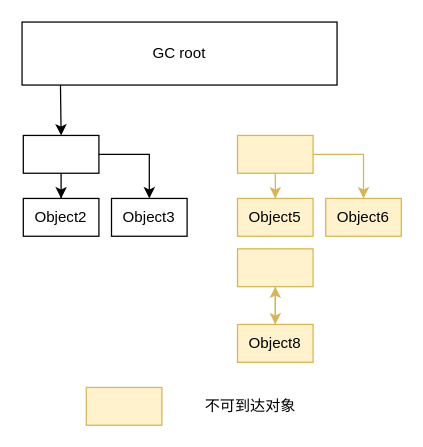
Some shapes in this 423 by 447 pixel diagram are drawn without their labels. The shapes that lost their labels are listed below. From the top down, each one's centre as x and y in pixels, then its label:
At (x=60, y=153): "Object1".
At (x=274, y=153): "Object4".
At (x=274, y=267): "Object7".
